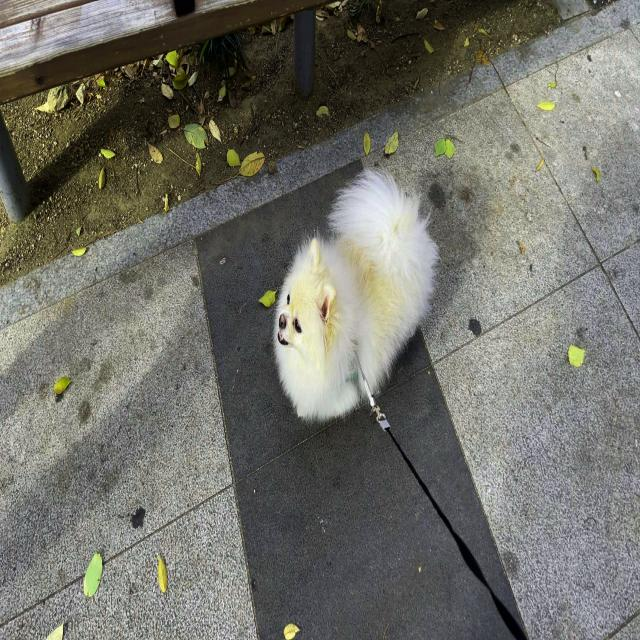Dog: (274, 168, 434, 418)
